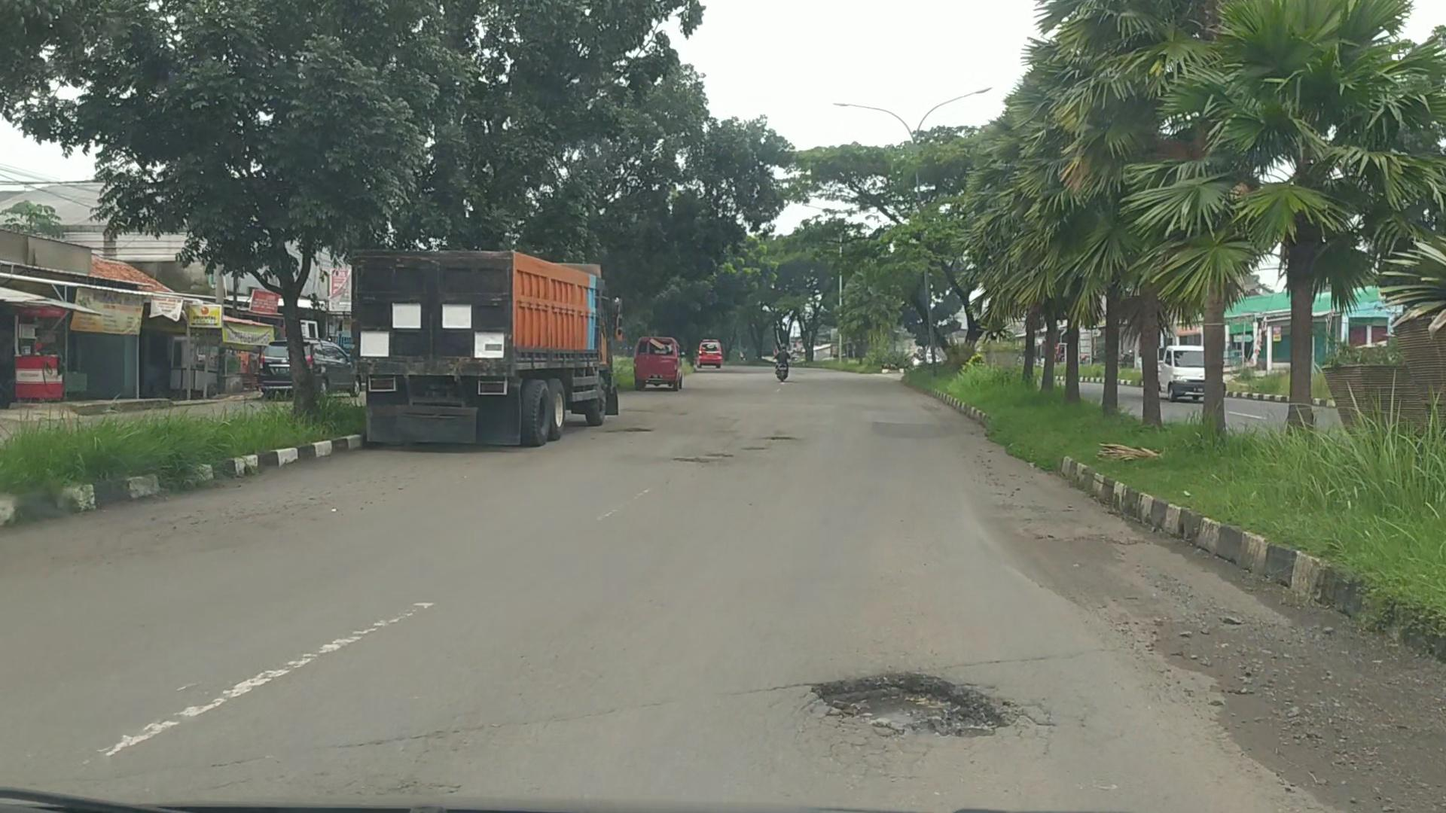pothole: (802, 673, 999, 744)
